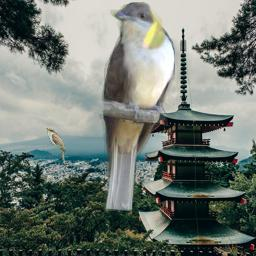Cuckoo: (99, 2, 175, 211), (45, 127, 67, 168)
